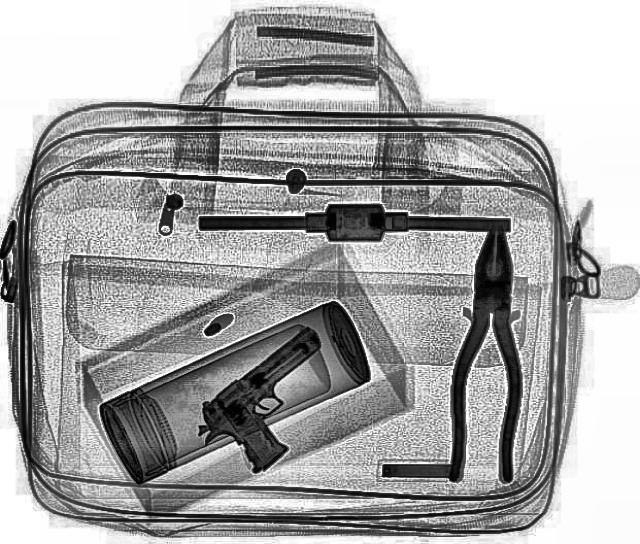Gun: (176, 320, 378, 478)
Pliers: (446, 222, 532, 484)
